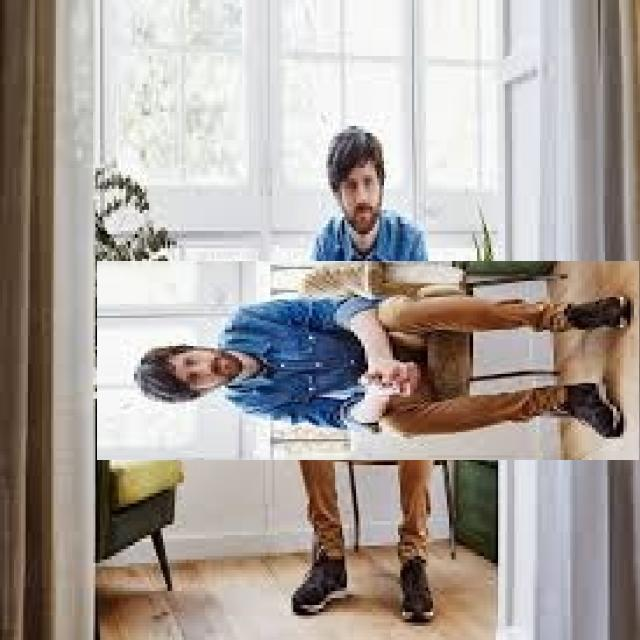NotFall: (82, 168, 640, 484)
